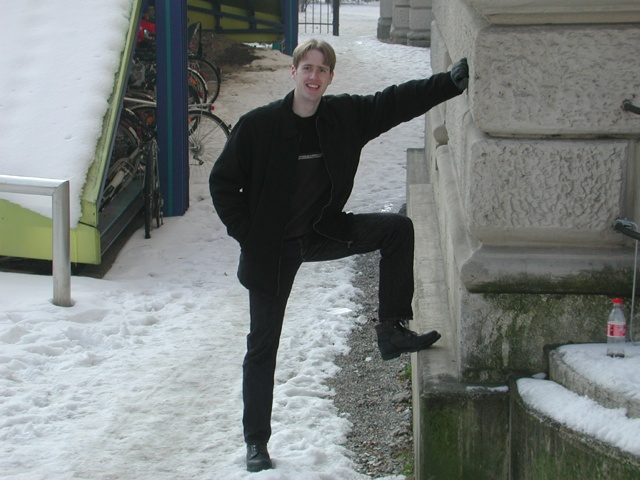person: (208, 37, 466, 473)
